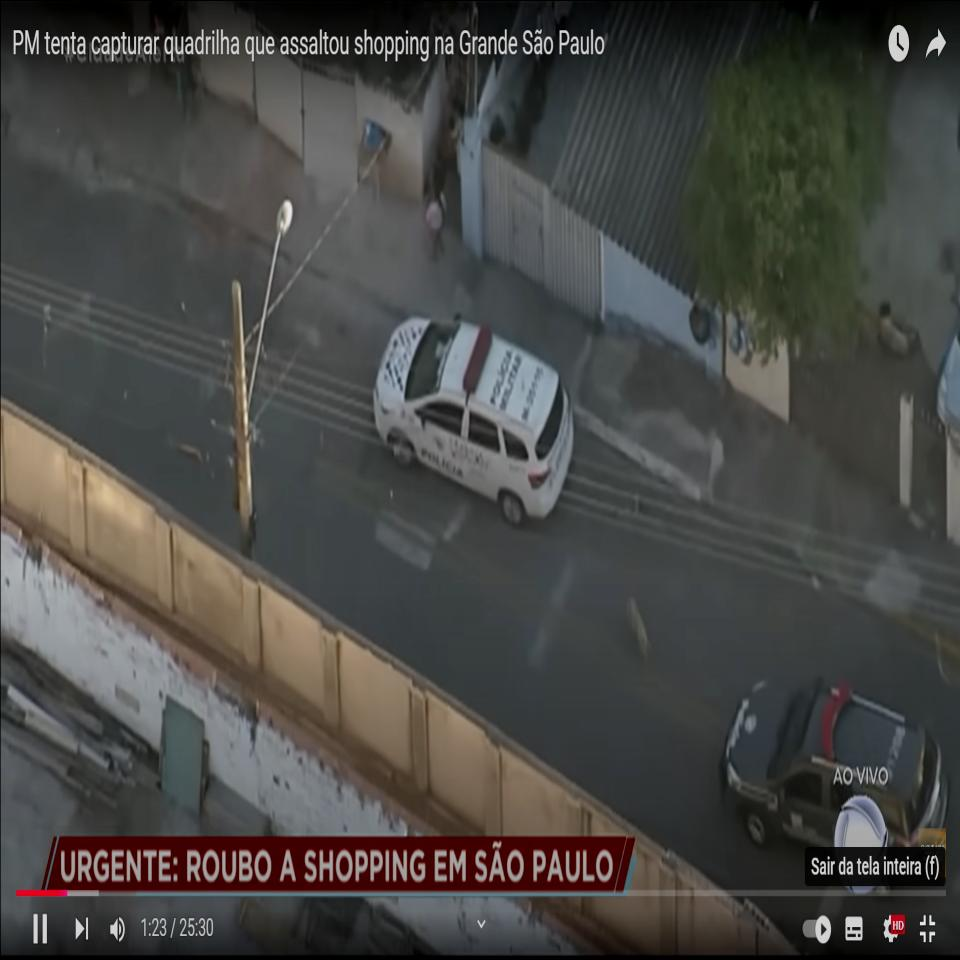viatura: (371, 306, 579, 528), (719, 664, 847, 848)
